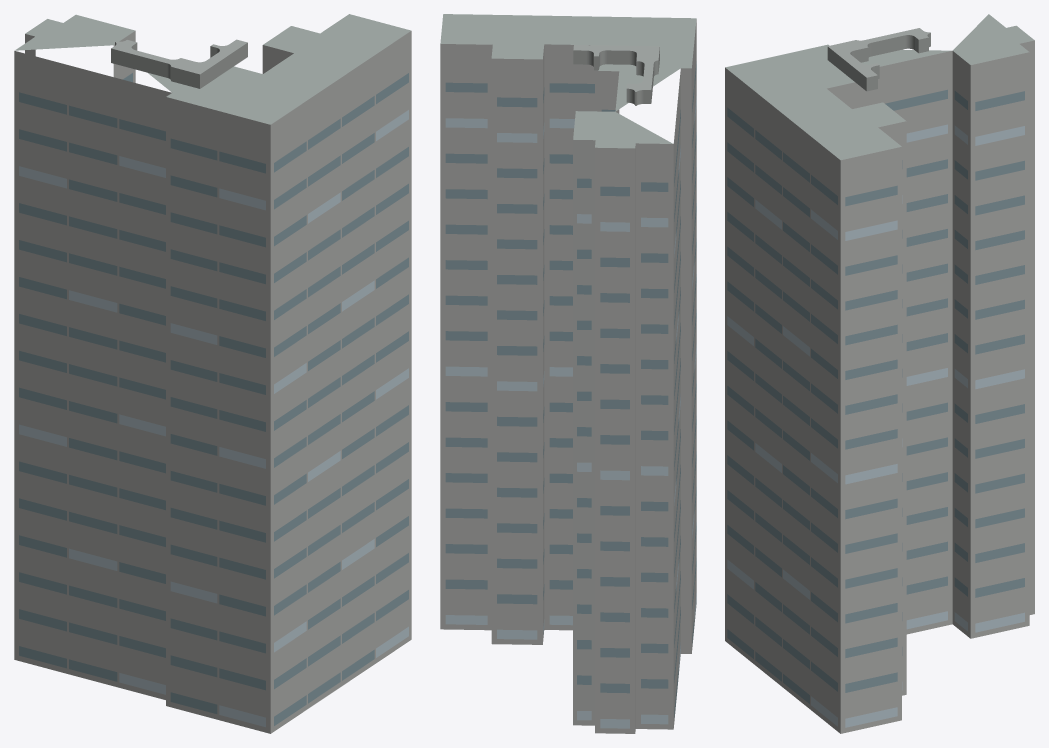
Rendered from fallback-onebailey-116.glb.
The picture shows the model from 3 angles, left to right: view 1: azimuth 30°, elevation 25°; view 2: azimuth 150°, elevation 25°; view 3: azimuth 270°, elevation 25°; orthographic projection. The views are drawn at different scales.
Parts seen in each view (by area): view 1: fallback-onebailey-116; view 2: fallback-onebailey-116; view 3: fallback-onebailey-116.
Part boxes in pixels (x1=…): fallback-onebailey-116: x1=14, y1=14, x2=411, y2=733; fallback-onebailey-116: x1=440, y1=14, x2=696, y2=733; fallback-onebailey-116: x1=725, y1=14, x2=1034, y2=733.
Bounding box in the file's own units: 55.04 × 103 × 49.25.
